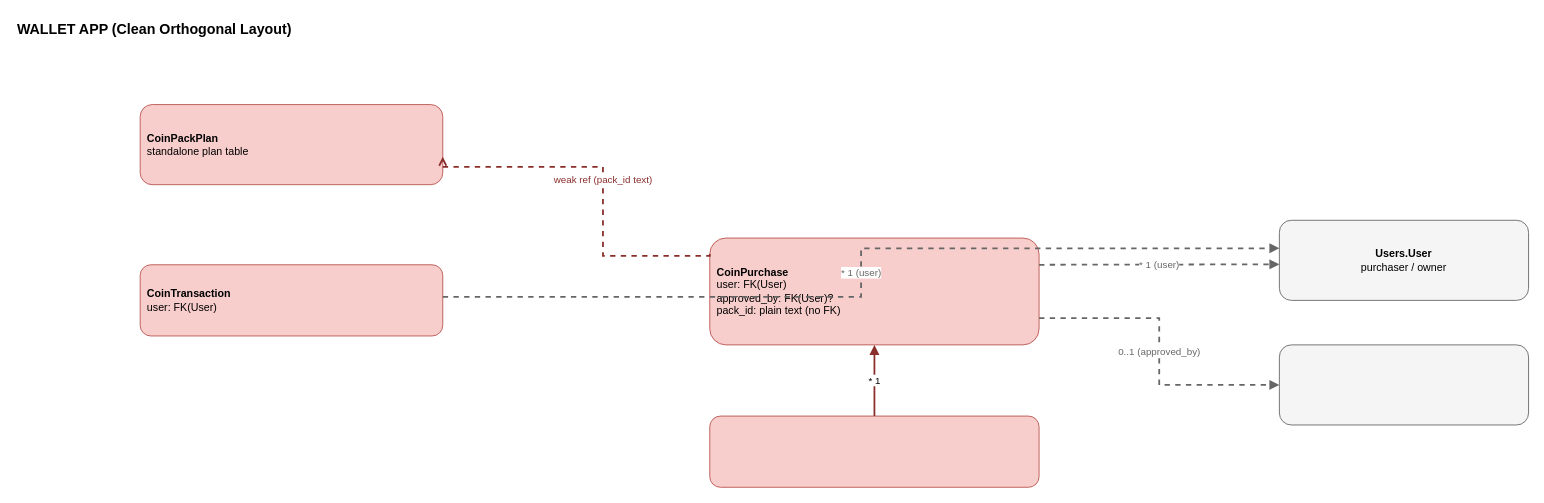
This 1544x503 diagram has some shape labels left out. The shapes that lost their labels are listed below. From the top down, each one's box as (x1, y1, x2, y2) in pixels, then its label:
(1278, 344, 1529, 425): Users.User approved_by
(709, 415, 1039, 487): CoinPurchaseProof purchase: FK(CoinPurchase)
